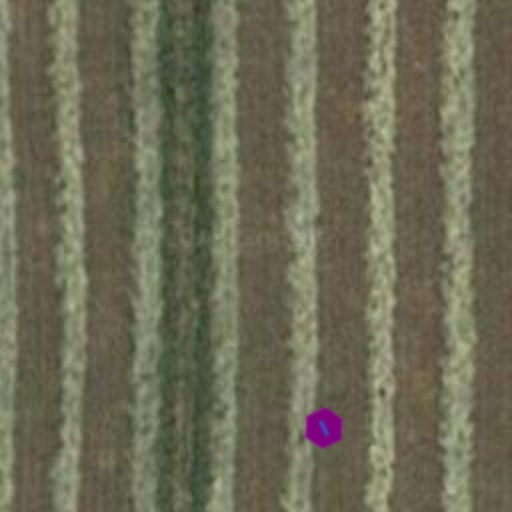hexagon: (294, 398, 354, 458)
